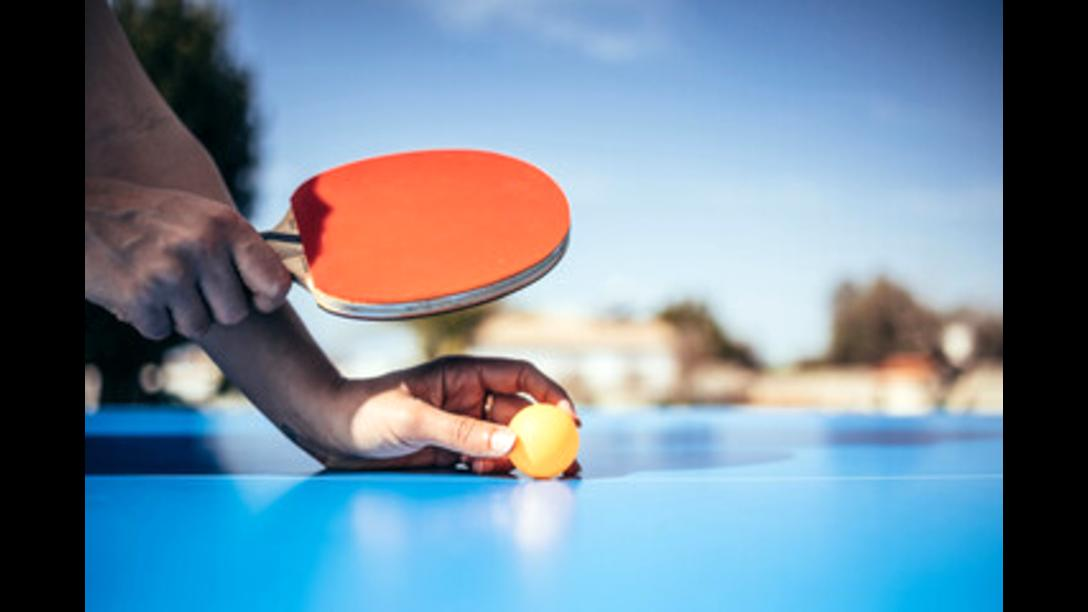Table-Tennis-Ball: (509, 404, 579, 476)
